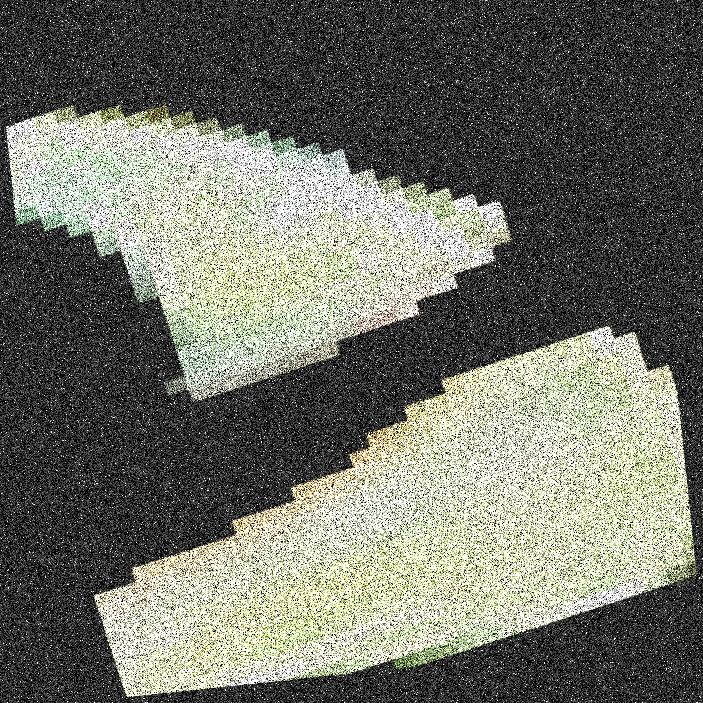Colete: (171, 0, 499, 702)
